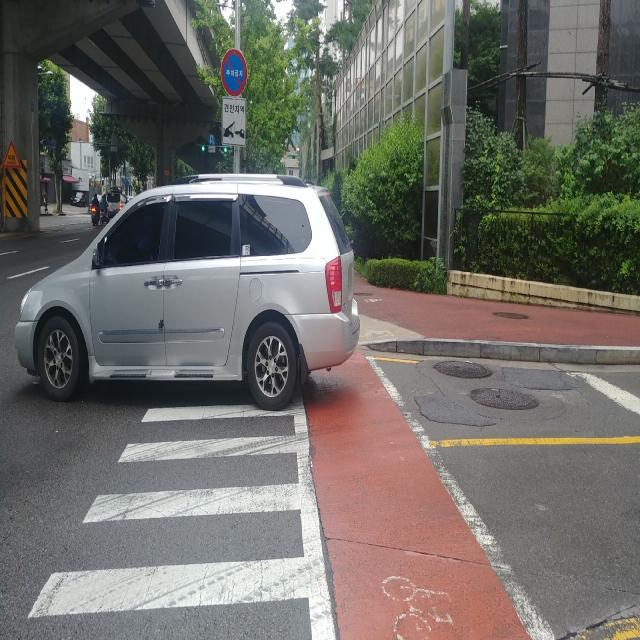횡단보도: (26, 400, 311, 626)
